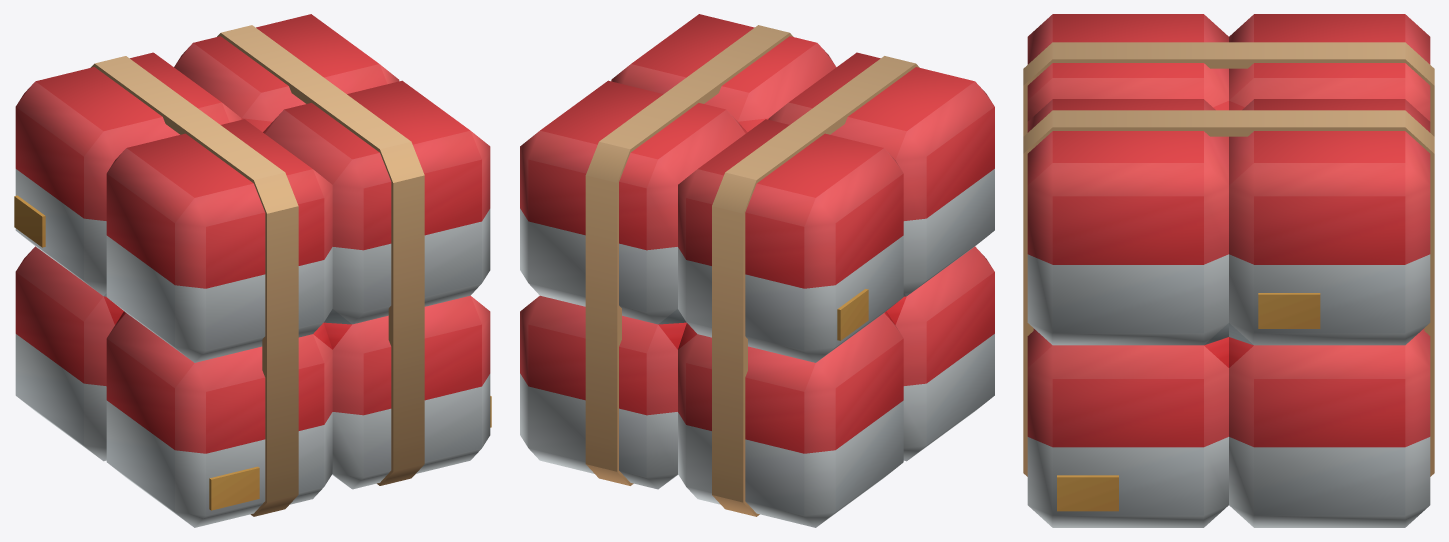
File: cargo_A_stacked.glb
The picture shows the model from 3 angles, left to right: view 1: azimuth 30°, elevation 25°; view 2: azimuth 150°, elevation 25°; view 3: azimuth 270°, elevation 25°; orthographic projection. The views are drawn at different scales.
Visible parts, largest first — view 1: cargo_A_stacked; view 2: cargo_A_stacked; view 3: cargo_A_stacked.
Boxes of the visible parts, x1,y1,x2,y2 form: cargo_A_stacked: (14, 14, 491, 527); cargo_A_stacked: (520, 14, 994, 527); cargo_A_stacked: (1023, 14, 1434, 527).
Size of the model in its own units: 1.02 by 1.02 by 1.02.
Materials: 1 (1 with a texture image).
